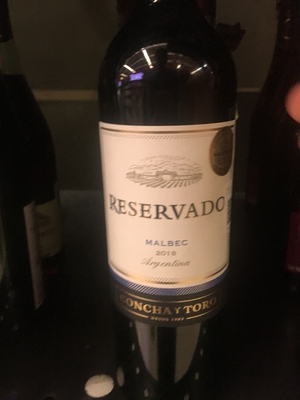reservado malbec: (94, 7, 245, 387)
